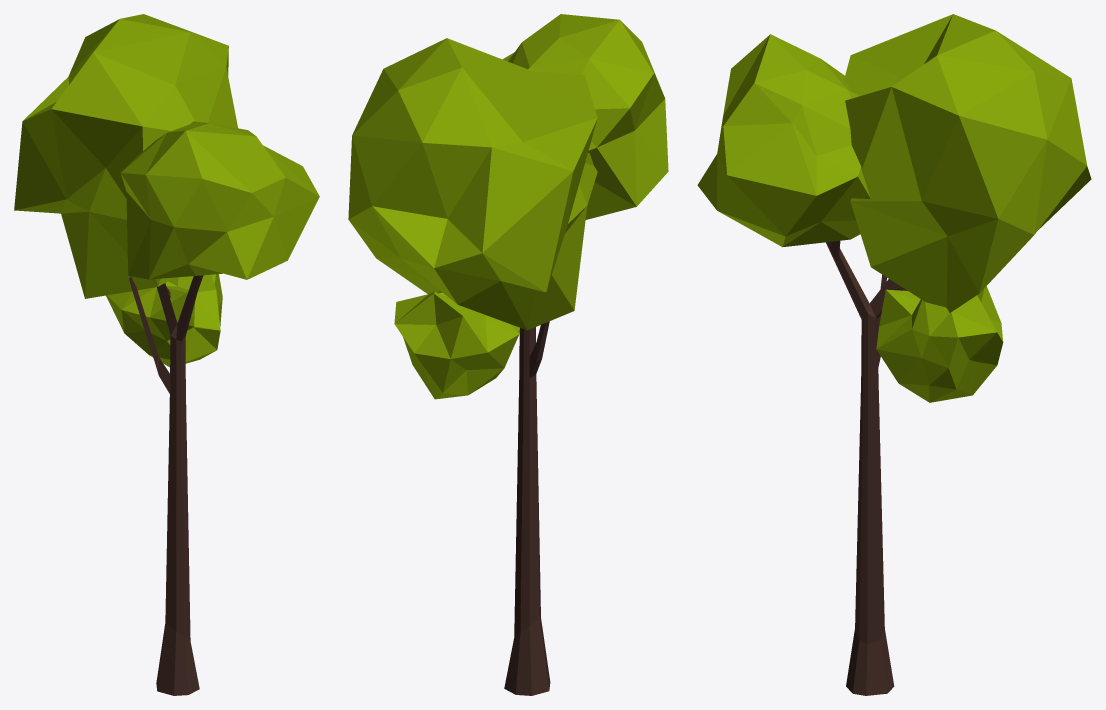
The model's file is Tree.fbx.
3 renders of one model, left to right at view 1: azimuth 30°, elevation 25°; view 2: azimuth 150°, elevation 25°; view 3: azimuth 270°, elevation 25°, orthographic. The views are drawn at different scales.
Visible parts, largest first — view 1: Tree; view 2: Tree; view 3: Tree.
Boxes of the visible parts, bbox=[...] form: Tree: bbox=[14, 14, 319, 695]; Tree: bbox=[348, 14, 668, 695]; Tree: bbox=[697, 14, 1091, 695].
Size of the model in its own units: 257 by 757 by 412.
